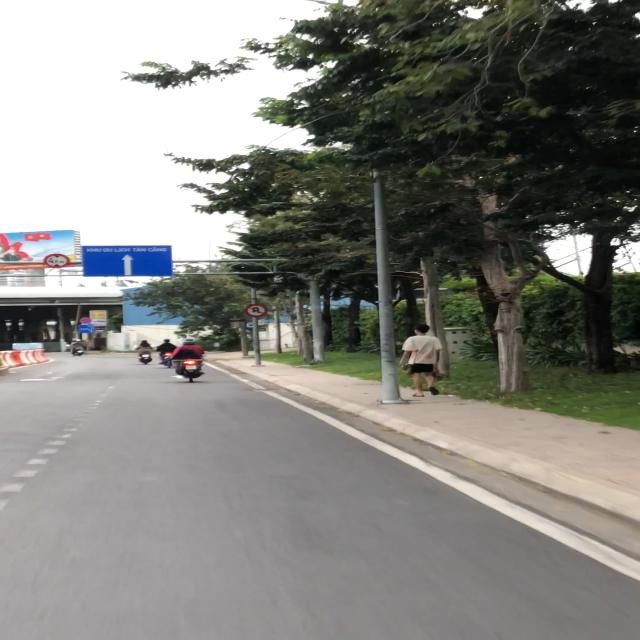Bien bao cam quay dau xe: (242, 303, 270, 318)
Bien bao han che chieu cao: (41, 252, 72, 269)
